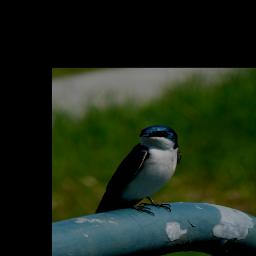Swallow: (95, 124, 184, 217)
